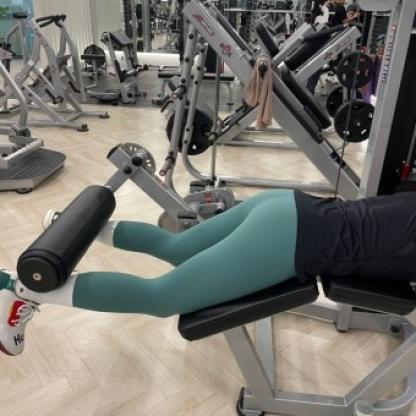reg curl machine: (0, 133, 416, 416)
